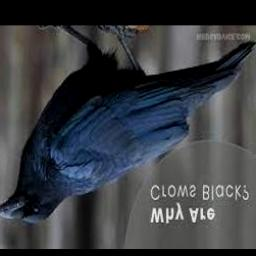Crow: (0, 27, 255, 223)
